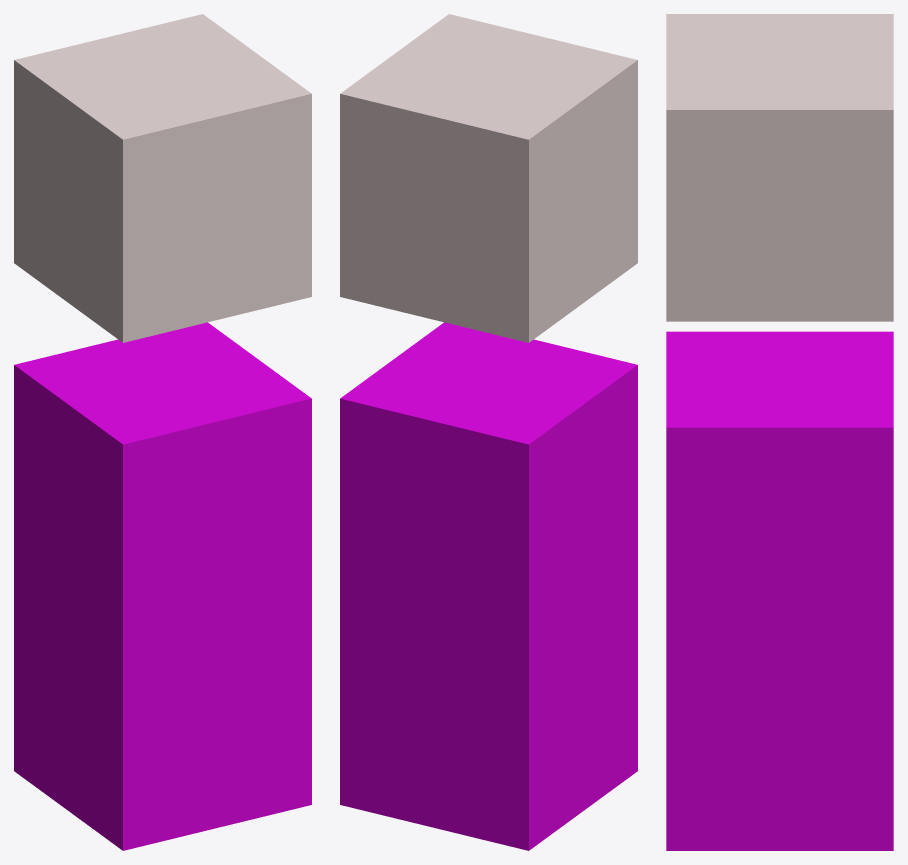
The model's file is IcecreamAttendent.fbx.
3 renders of one model, left to right at view 1: azimuth 30°, elevation 25°; view 2: azimuth 150°, elevation 25°; view 3: azimuth 270°, elevation 25°, orthographic. The views are drawn at different scales.
Visible parts, largest first — view 1: IcecreamAttendent; view 2: IcecreamAttendent; view 3: IcecreamAttendent.
Part boxes in pixels (x1,y1,x2,y2): IcecreamAttendent: [14, 14, 311, 850]; IcecreamAttendent: [340, 14, 637, 850]; IcecreamAttendent: [666, 14, 893, 850].
Size of the model in its own units: 40 by 144 by 40.
